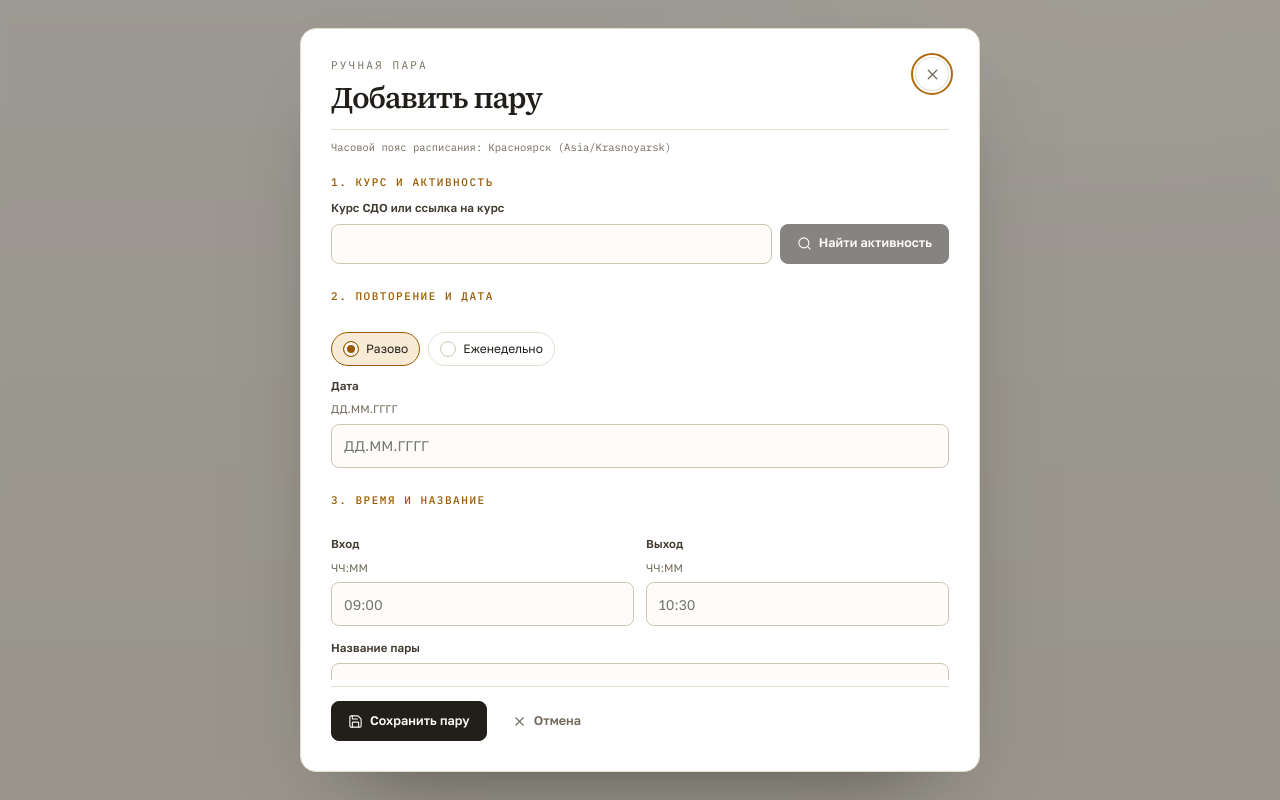
Scenario: ManualLectureWizard › keeps an in-flight search usable after the query changes and ignores stale results
In the field labelled "Курс СДО или ссылка на курс": (551, 244) [331, 224, 772, 264], type "Старый запрос"
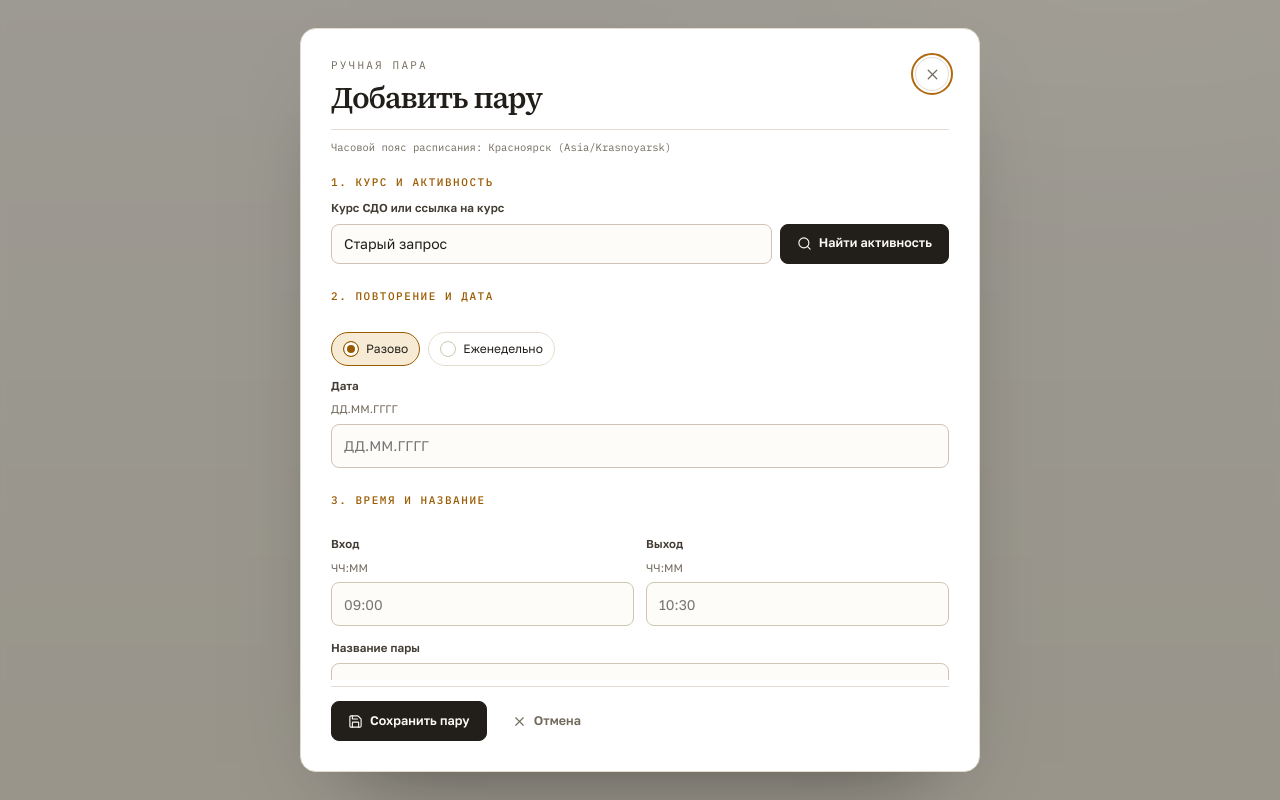
Click the button "Найти активность": (864, 244) [780, 224, 949, 264]
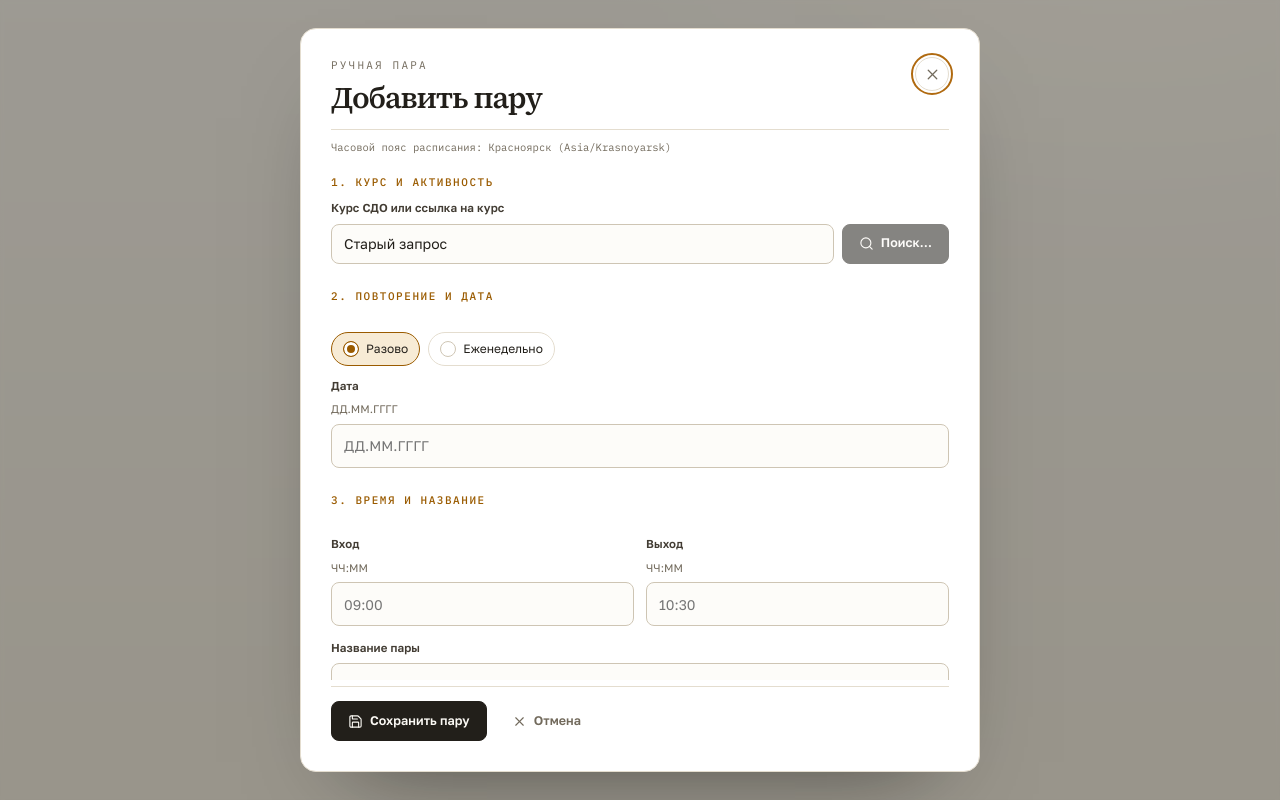
Result: the button "Поиск…" is disabled at [842, 224, 949, 264]
Replace the text in the field labelled "Курс СДО или ссылка на курс" with "Новый запрос": (582, 244) [331, 224, 834, 264]
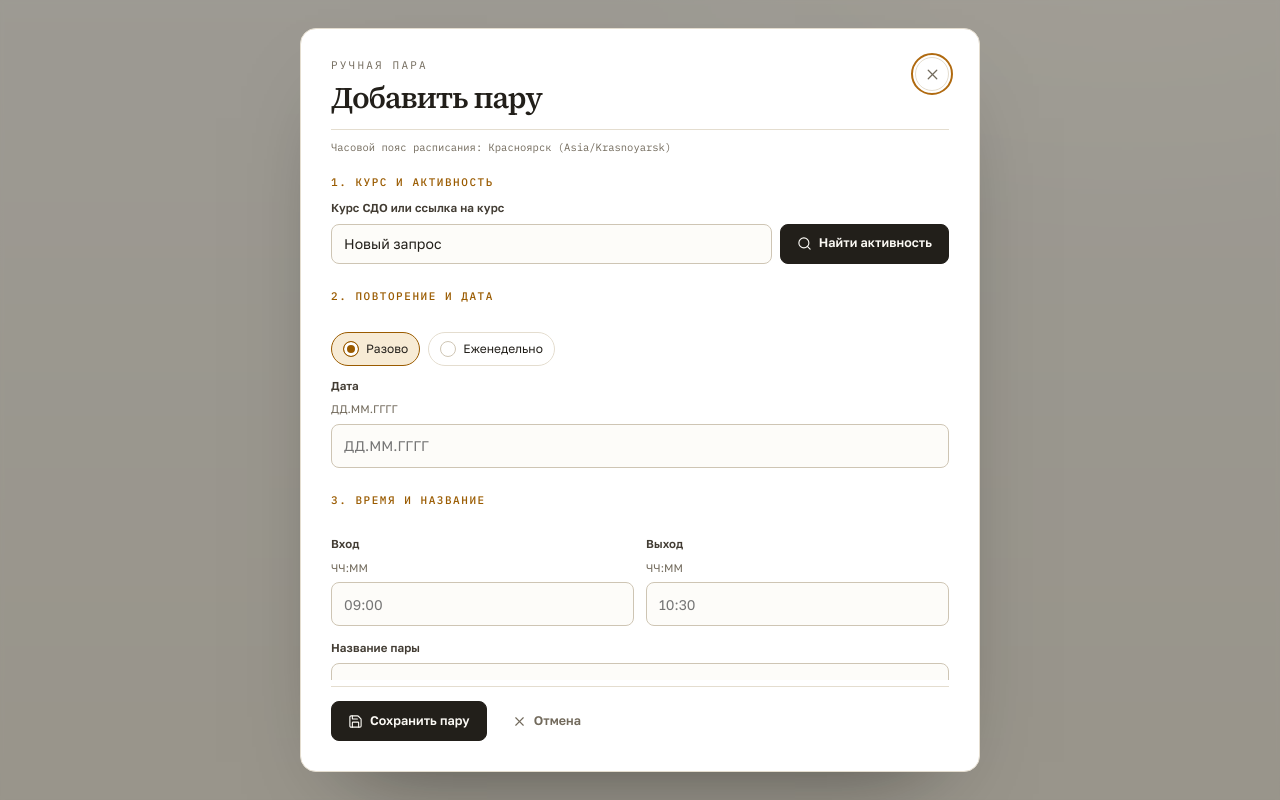
Result: the button "Найти активность" is enabled
Click the button "Найти активность": (864, 244) [780, 224, 949, 264]
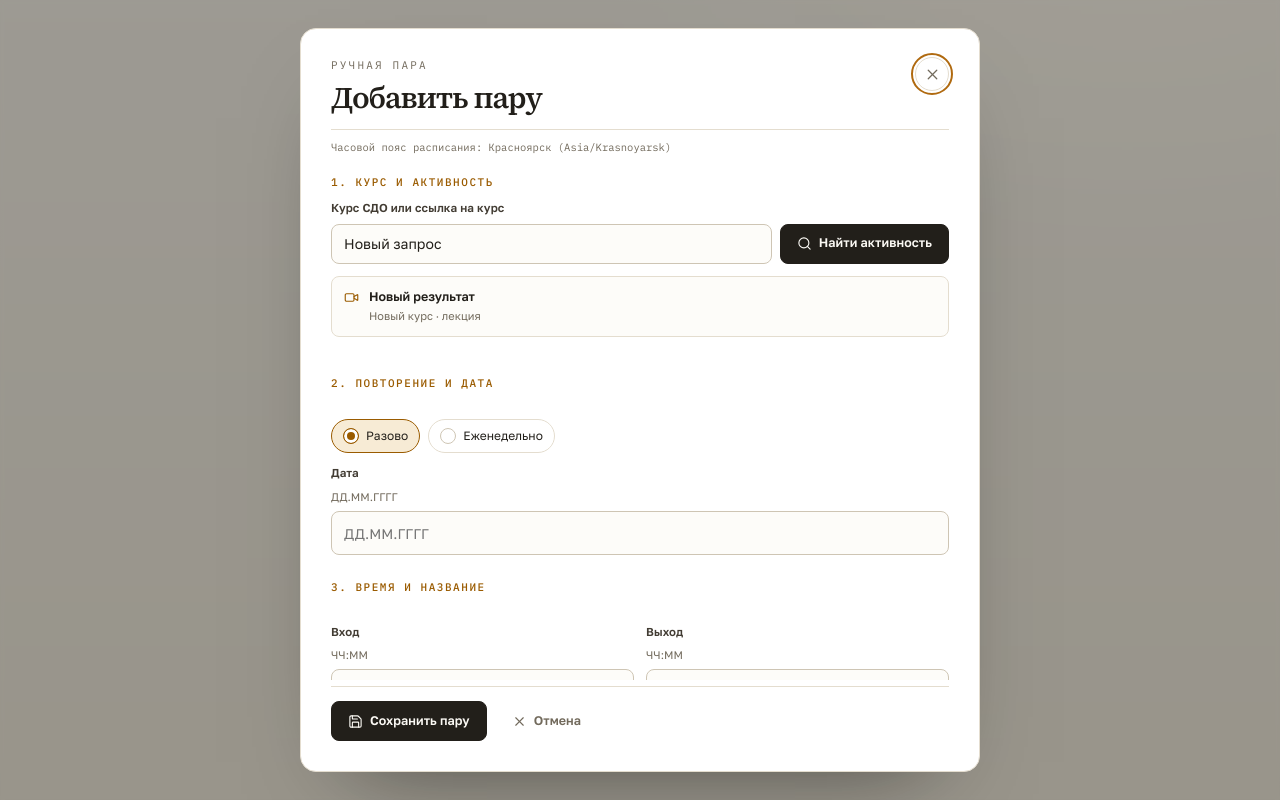
Result: the button "Новый результат Новый курс · лекция" is shown at [331, 276, 949, 337]
Result: the text "Новый результат" is shown at [369, 288, 481, 306]
